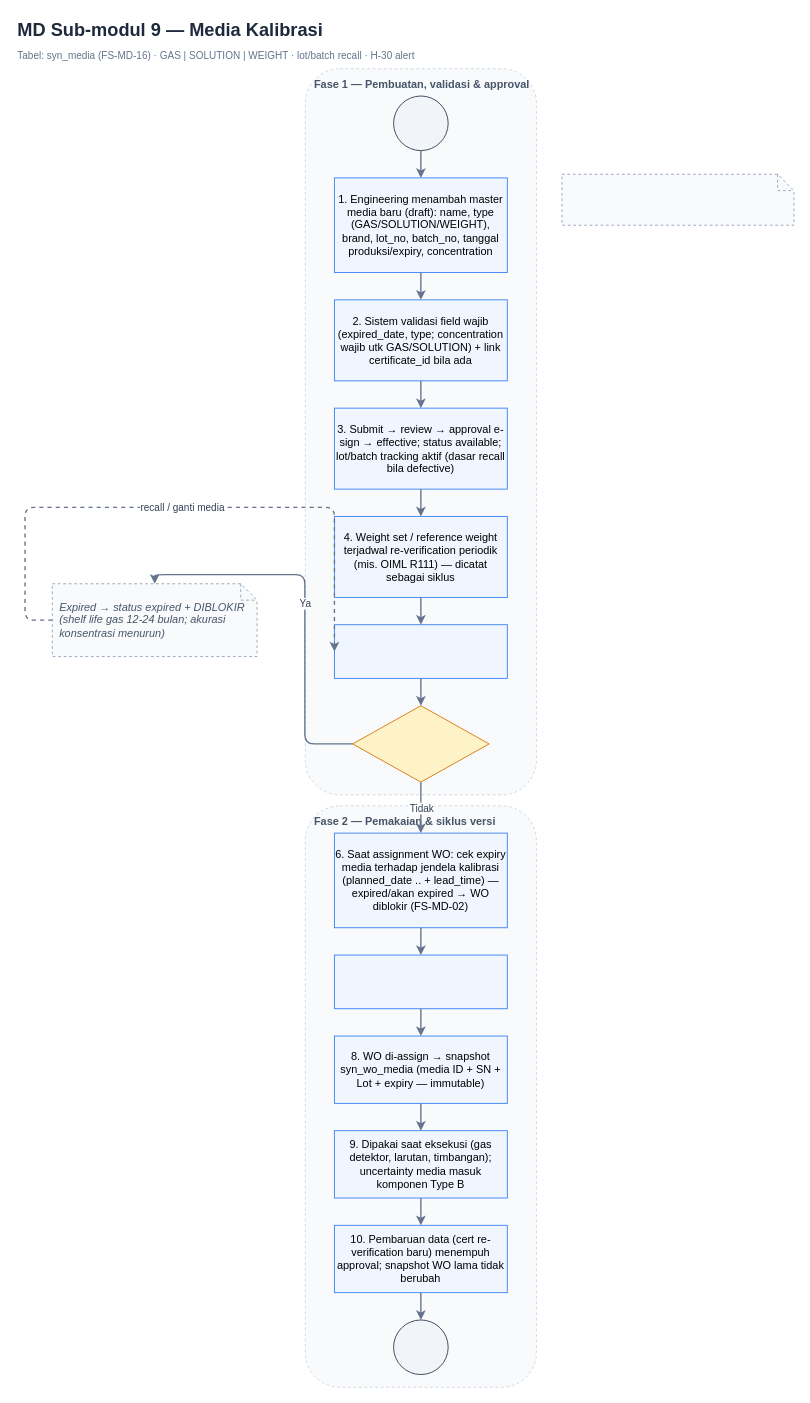
Some shapes in this 810 by 1403 pixel diagram are drawn without their labels. Each missing label, with the centre of its shape:
5. Monitoring: H-30 sebelum expired_date → alert notifikasi ke pemilik: the point at 420,651
7. Override blokir: justifikasi wajib + approval QO Manager + audit trail: the point at 420,981
Contoh: 100 ppm CO untuk SOP-466 Gas Detektor: the point at 677,199
Expired?: the point at 420,743
Mulai: the point at 420,123
Selesai: the point at 420,1347
